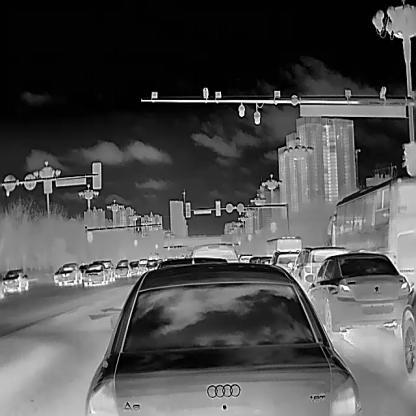car: (83, 261, 362, 415), (327, 175, 416, 289), (303, 250, 411, 337), (286, 245, 347, 292), (401, 284, 416, 383), (263, 249, 302, 278), (264, 234, 303, 257), (191, 243, 238, 262), (1, 268, 28, 293), (82, 261, 108, 285), (57, 262, 83, 285), (114, 257, 131, 278), (100, 259, 115, 282), (248, 254, 272, 264), (128, 260, 141, 276), (145, 259, 160, 272), (137, 258, 149, 272), (238, 254, 252, 263)
